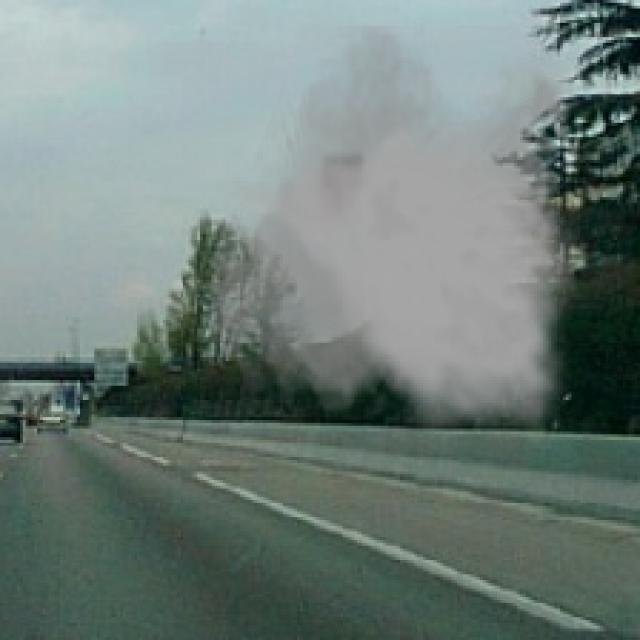smoke: (203, 26, 583, 448)
